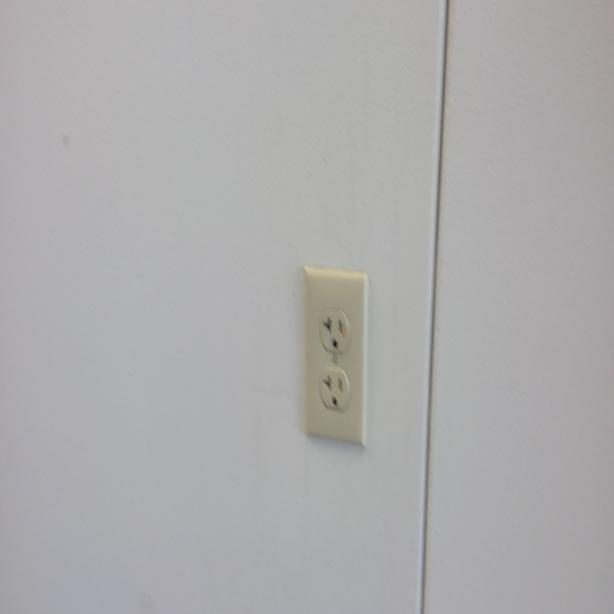typeb: (320, 307, 350, 354), (320, 369, 350, 412)
